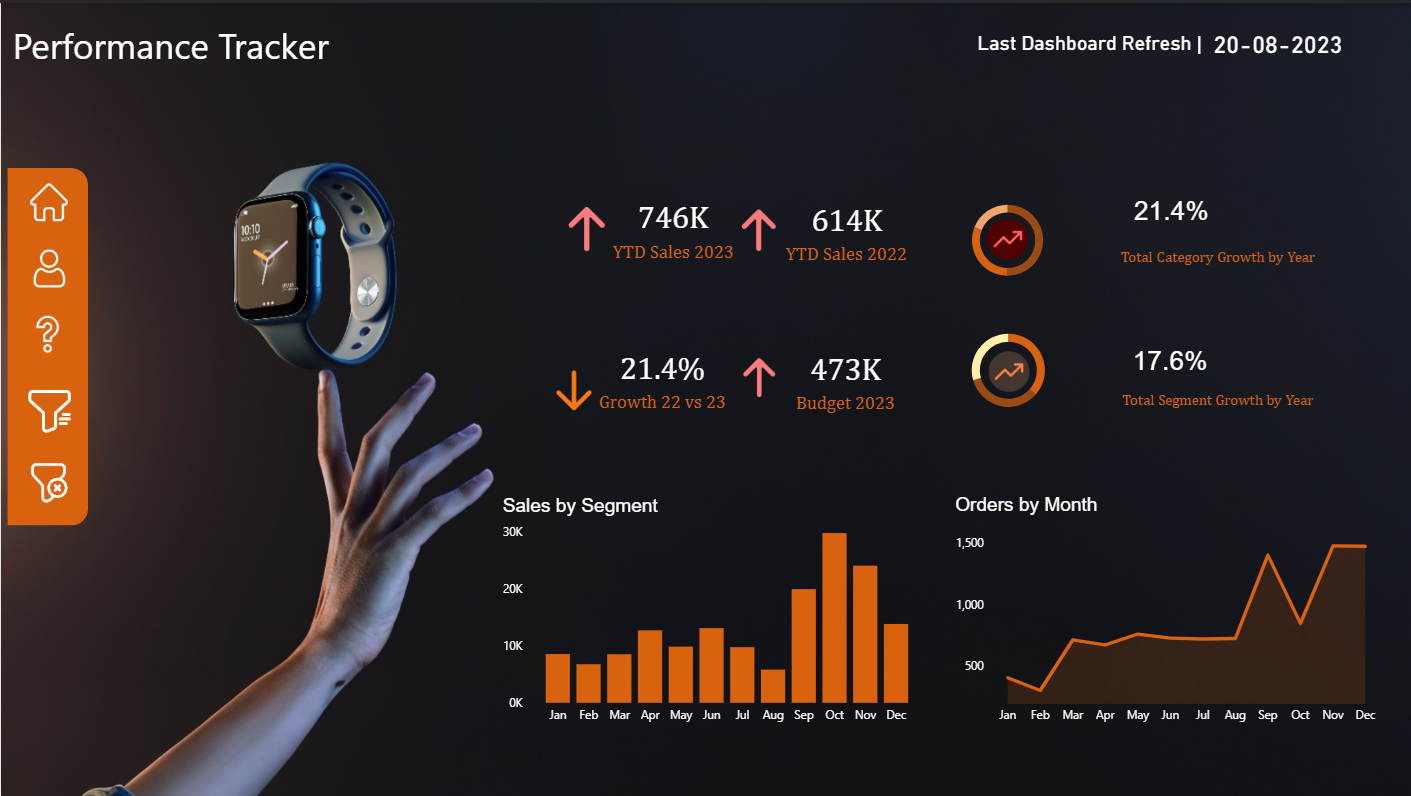

The dashboard page shown, as its layout file describes it:
{"tool":"powerbi","page":{"name":"Duplicate of Page 3","canvas":[1280,720],"ordinal":0},"visuals":[{"type":"group","id":"g1","title":"Group 2","box":[878,11.9,362.2,48.8],"z":0,"group":"g2"},{"type":"card","fields":{"Values":["Last Rfresh Date.Getdate"]},"box":[1077.4,23.1,162.8,30.2],"z":0,"group":"g1"},{"type":"shape","box":[5.8,150,73.3,324.4],"z":0},{"type":"image","box":[21.5,159.3,44.5,44.5],"z":0,"group":"g3"},{"type":"shape","box":[878,11.9,219.8,48.8],"z":1000,"group":"g1"},{"type":"donutChart","title":"Sales 2023 by Segment","fields":{"Y":["Orders.Total_Sales"],"Category":["Orders.Segment"]},"box":[847.7,169.8,132.6,90.7],"z":1000},{"type":"image","box":[16.3,279.4,53.1,43.7],"z":1000,"group":"g3"},{"type":"image","box":[12.8,344.2,64,53.5],"z":2000},{"type":"image","box":[16.3,410.8,54.7,50],"z":2000,"group":"g3"},{"type":"image","box":[22.1,219.3,50.4,44.1],"z":3000,"group":"g3"},{"type":"columnChart","title":"Sales by Segment","fields":{"Category":["Orders.Month"],"Series":["Orders.Segment"],"Y":["Orders.Current_year_sales"]},"box":[450,445.4,389.5,217.4],"z":3000},{"type":"donutChart","title":"Sales 2023 by Category","fields":{"Y":["Orders.Current_year_sales"],"Category":["Orders.Category"]},"box":[844.2,287.2,140.7,93],"z":4000},{"type":"areaChart","title":"Orders by Month","fields":{"Category":["Orders.Month"],"Y":["CountNonNull(Orders.Customer ID)"]},"box":[860.5,444.2,394.2,218.6],"z":5000},{"type":"card","fields":{"Values":["Orders.Current_year_sales"]},"box":[544.2,164,131.4,79.1],"z":6000},{"type":"card","fields":{"Values":["Orders.Previous_year_sales"]},"box":[707,166.3,122.1,79.1],"z":7000},{"type":"card","fields":{"Values":["Orders.Sales_growth"]},"box":[537.2,304.7,125.6,70.9],"z":8000},{"type":"card","fields":{"Values":["Orders.Current_year_sales"]},"box":[701.2,301.2,131.4,79.1],"z":9000},{"type":"card","fields":{"Values":["Orders.Sales_growth"]},"box":[1023.1,159.9,78.3,59],"z":10000},{"type":"card","fields":{"Values":["Orders.Sales_growth"]},"box":[1017.4,298.3,87.3,53.3],"z":11000},{"type":"shape","box":[1000.4,201.9,207.6,56.7],"z":12000},{"type":"shape","box":[1000.4,332.3,207.6,54.4],"z":13000},{"type":"group","id":"g2","title":"Group 3","box":[878,11.9,362.2,48.8],"z":14000},{"type":"group","id":"g3","title":"Group 5","box":[16.3,159.3,55.8,302.3],"z":16000},{"type":"textbox","box":[5.8,11.6,484.9,57],"z":17000},{"type":"image","box":[490.7,318.6,58.1,66.3],"z":18000},{"type":"image","box":[505.8,180.2,51.2,50],"z":19000},{"type":"image","box":[662.8,317.4,51.2,45.3],"z":20000},{"type":"image","box":[662.8,182.6,51.2,47.7],"z":21000},{"type":"image","box":[890.7,189.5,46.5,50],"z":22000},{"type":"image","box":[891.9,309.3,46.5,48.8],"z":23000}]}

Visuals, with their boxes in screenshot pixels (x1, y1, x2, y2), scaled from the page's 1280x720 canvas onto the 1411x796 screenshot:
"Group 2" group: {"left": 968, "top": 13, "right": 1367, "bottom": 67}
card - Last Rfresh Date.Getdate: {"left": 1188, "top": 26, "right": 1367, "bottom": 59}
shape: {"left": 6, "top": 166, "right": 87, "bottom": 524}
image: {"left": 24, "top": 176, "right": 73, "bottom": 225}
shape: {"left": 968, "top": 13, "right": 1210, "bottom": 67}
"Sales 2023 by Segment" donutChart: {"left": 934, "top": 188, "right": 1081, "bottom": 288}
image: {"left": 18, "top": 309, "right": 77, "bottom": 357}
image: {"left": 14, "top": 381, "right": 85, "bottom": 440}
image: {"left": 18, "top": 454, "right": 78, "bottom": 509}
image: {"left": 24, "top": 242, "right": 80, "bottom": 291}
"Sales by Segment" columnChart: {"left": 496, "top": 492, "right": 925, "bottom": 733}
"Sales 2023 by Category" donutChart: {"left": 931, "top": 318, "right": 1086, "bottom": 420}
"Orders by Month" areaChart: {"left": 949, "top": 491, "right": 1383, "bottom": 733}
card - Orders.Current_year_sales: {"left": 600, "top": 181, "right": 745, "bottom": 269}
card - Orders.Previous_year_sales: {"left": 779, "top": 184, "right": 914, "bottom": 271}
card - Orders.Sales_growth: {"left": 592, "top": 337, "right": 731, "bottom": 415}
card - Orders.Current_year_sales: {"left": 773, "top": 333, "right": 918, "bottom": 420}
card - Orders.Sales_growth: {"left": 1128, "top": 177, "right": 1214, "bottom": 242}
card - Orders.Sales_growth: {"left": 1122, "top": 330, "right": 1218, "bottom": 389}
shape: {"left": 1103, "top": 223, "right": 1332, "bottom": 286}
shape: {"left": 1103, "top": 367, "right": 1332, "bottom": 428}
"Group 3" group: {"left": 968, "top": 13, "right": 1367, "bottom": 67}
"Group 5" group: {"left": 18, "top": 176, "right": 79, "bottom": 510}
textbox: {"left": 6, "top": 13, "right": 541, "bottom": 76}
image: {"left": 541, "top": 352, "right": 605, "bottom": 426}
image: {"left": 558, "top": 199, "right": 614, "bottom": 254}
image: {"left": 731, "top": 351, "right": 787, "bottom": 401}
image: {"left": 731, "top": 202, "right": 787, "bottom": 255}
image: {"left": 982, "top": 210, "right": 1033, "bottom": 265}
image: {"left": 983, "top": 342, "right": 1034, "bottom": 396}
